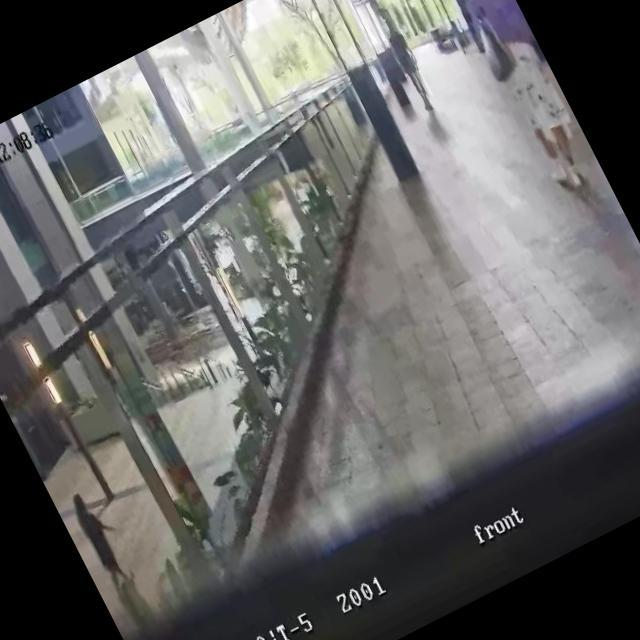person: (436, 0, 605, 198), (67, 486, 141, 592), (378, 16, 441, 114)
